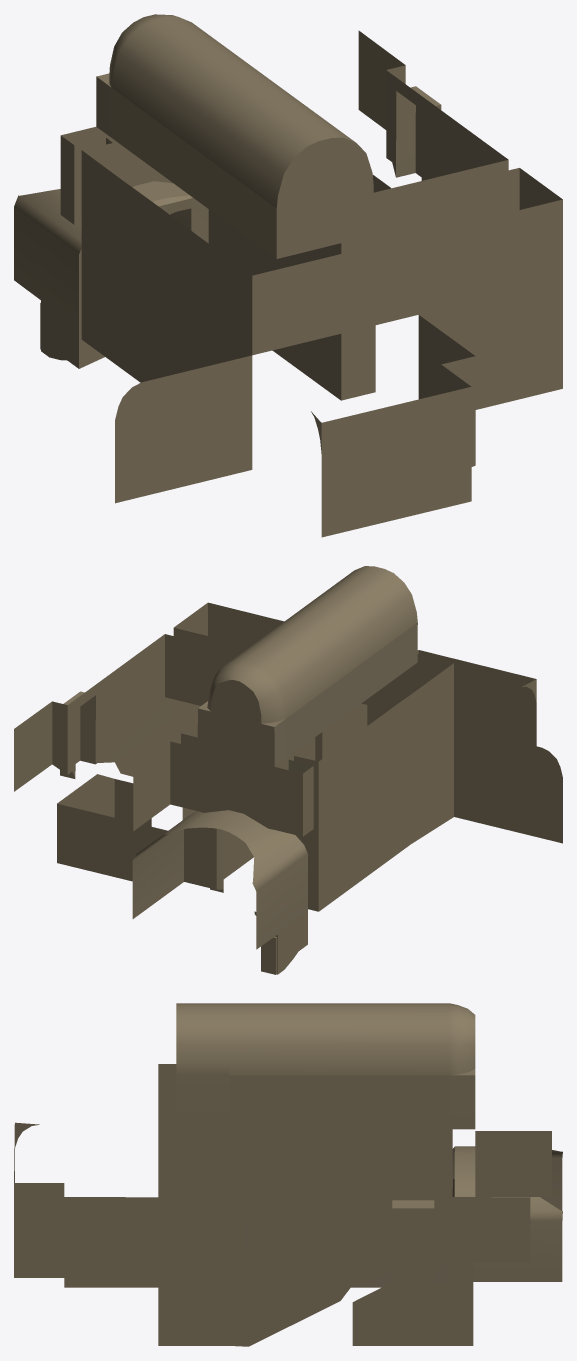
Rendered from Walls.fbx.
3 views of the same model, one above another, from view 1: azimuth 30°, elevation 25°; view 2: azimuth 150°, elevation 25°; view 3: azimuth 270°, elevation 25° (orthographic). The views are drawn at different scales.
Parts seen in each view (by area): view 1: Walls; view 2: Walls; view 3: Walls.
Boxes of the visible parts, x1,y1,x2,y2 form: Walls: (14,14,562,537); Walls: (14,566,562,974); Walls: (14,1003,562,1346).
Bounding box in the file's own units: 1386 × 973 × 1700.
